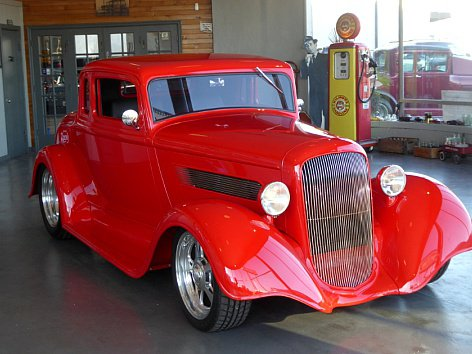car: (22, 50, 469, 324)
